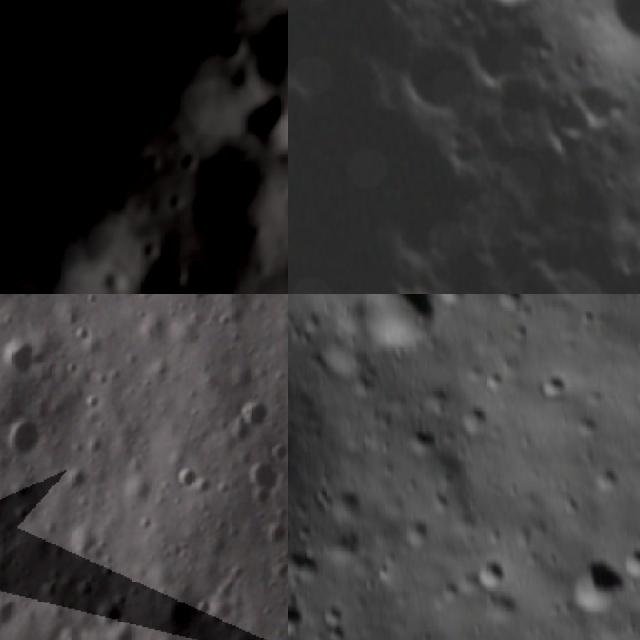crater: (378, 20, 498, 144), (337, 294, 463, 371), (542, 536, 639, 630), (555, 54, 640, 145), (533, 82, 605, 160), (569, 0, 640, 68), (232, 1, 288, 87), (239, 80, 288, 159), (447, 393, 503, 447), (318, 475, 375, 527), (465, 548, 516, 597), (396, 413, 446, 461), (3, 413, 51, 461), (537, 360, 584, 408), (244, 458, 288, 509), (90, 594, 144, 634), (288, 580, 324, 640), (0, 336, 46, 377), (608, 528, 640, 585), (288, 322, 310, 399), (241, 394, 279, 436), (483, 294, 538, 321), (168, 458, 206, 495), (0, 591, 26, 630), (70, 321, 96, 347), (192, 598, 218, 624)
